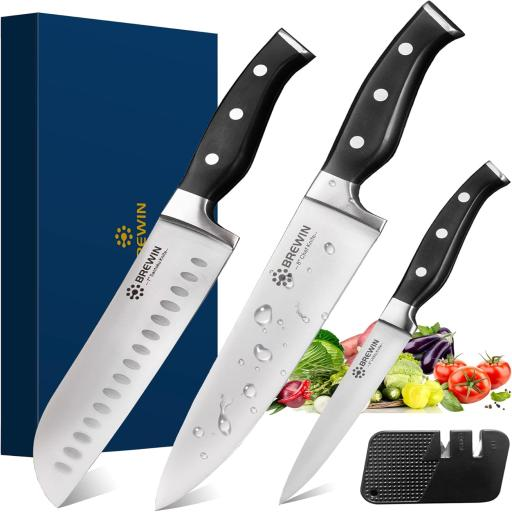knife: (141, 5, 473, 508)
